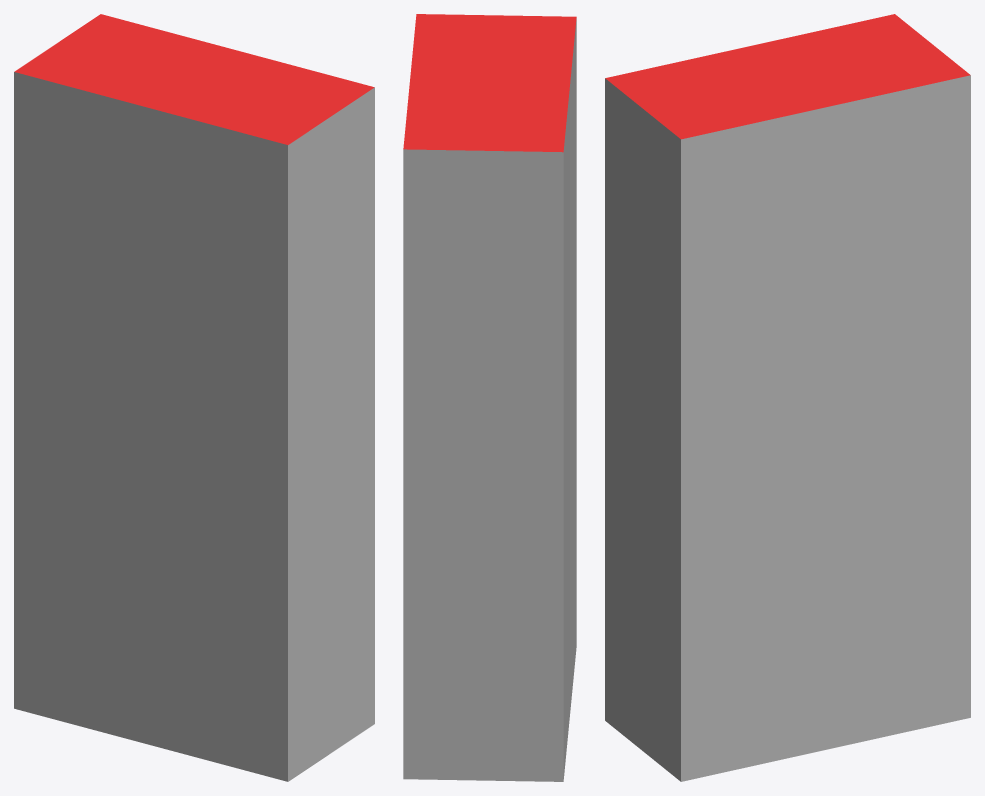
3 renders of one model, left to right at view 1: azimuth 30°, elevation 25°; view 2: azimuth 150°, elevation 25°; view 3: azimuth 270°, elevation 25°, orthographic. The views are drawn at different scales.
Size of the model in its own units: 5.44 by 6.71 by 13.
